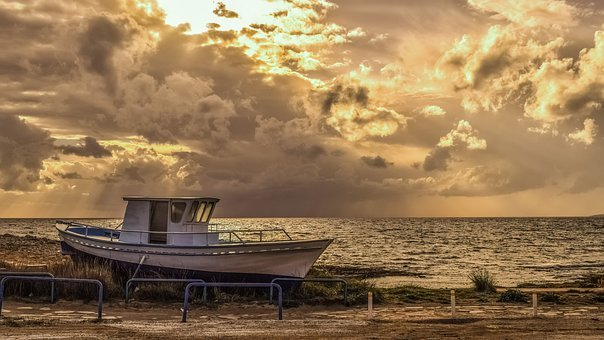sea: (2, 218, 604, 326)
sky: (1, 1, 599, 206)
